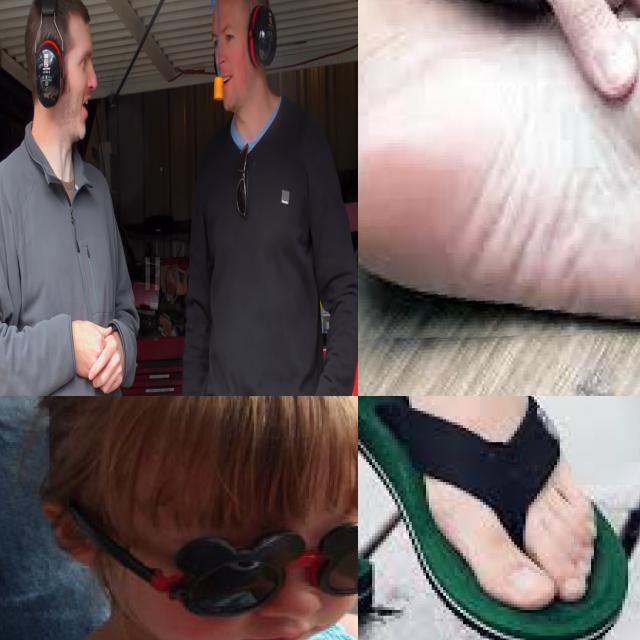Barefoots: (358, 25, 640, 307)
Ear-protection: (22, 0, 105, 156), (202, 0, 289, 132)
No_Glasses: (210, 8, 243, 61), (73, 37, 100, 84)
Sandals: (358, 396, 627, 640)
face_nomask: (185, 527, 354, 640)
glasses: (61, 489, 358, 626)
head_nohelmet: (61, 396, 358, 484)
